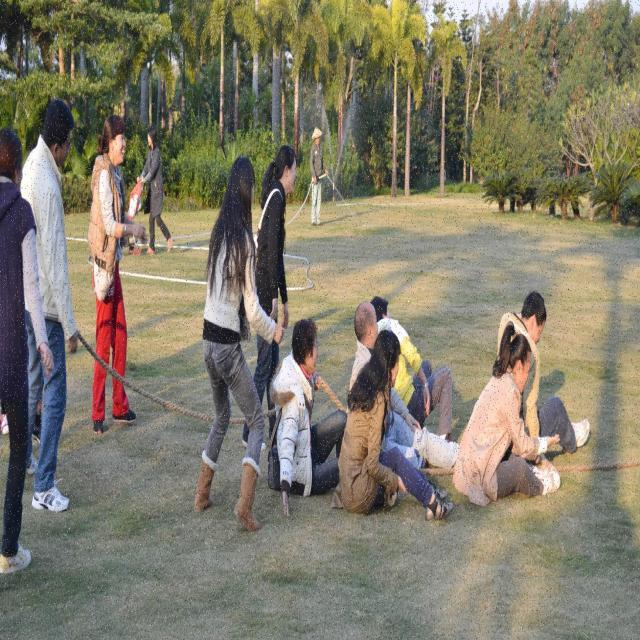fall: (340, 335, 452, 527), (457, 330, 553, 514)
